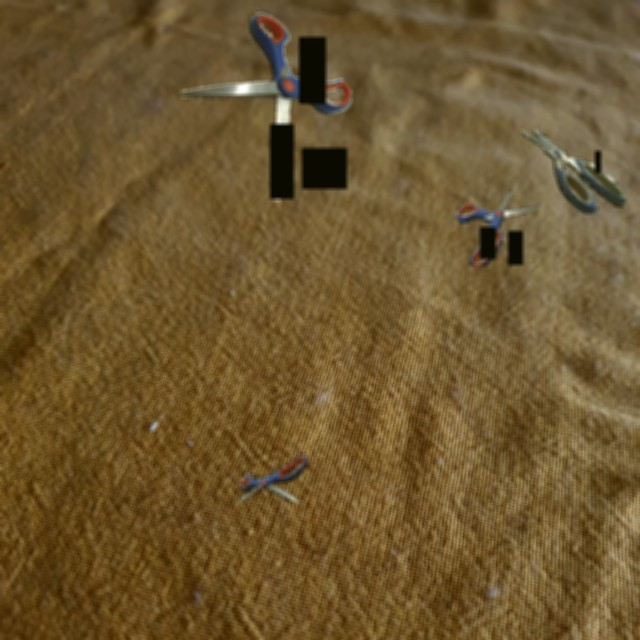scissors: (180, 13, 352, 201), (520, 128, 626, 214), (456, 185, 540, 266), (236, 453, 308, 503)
